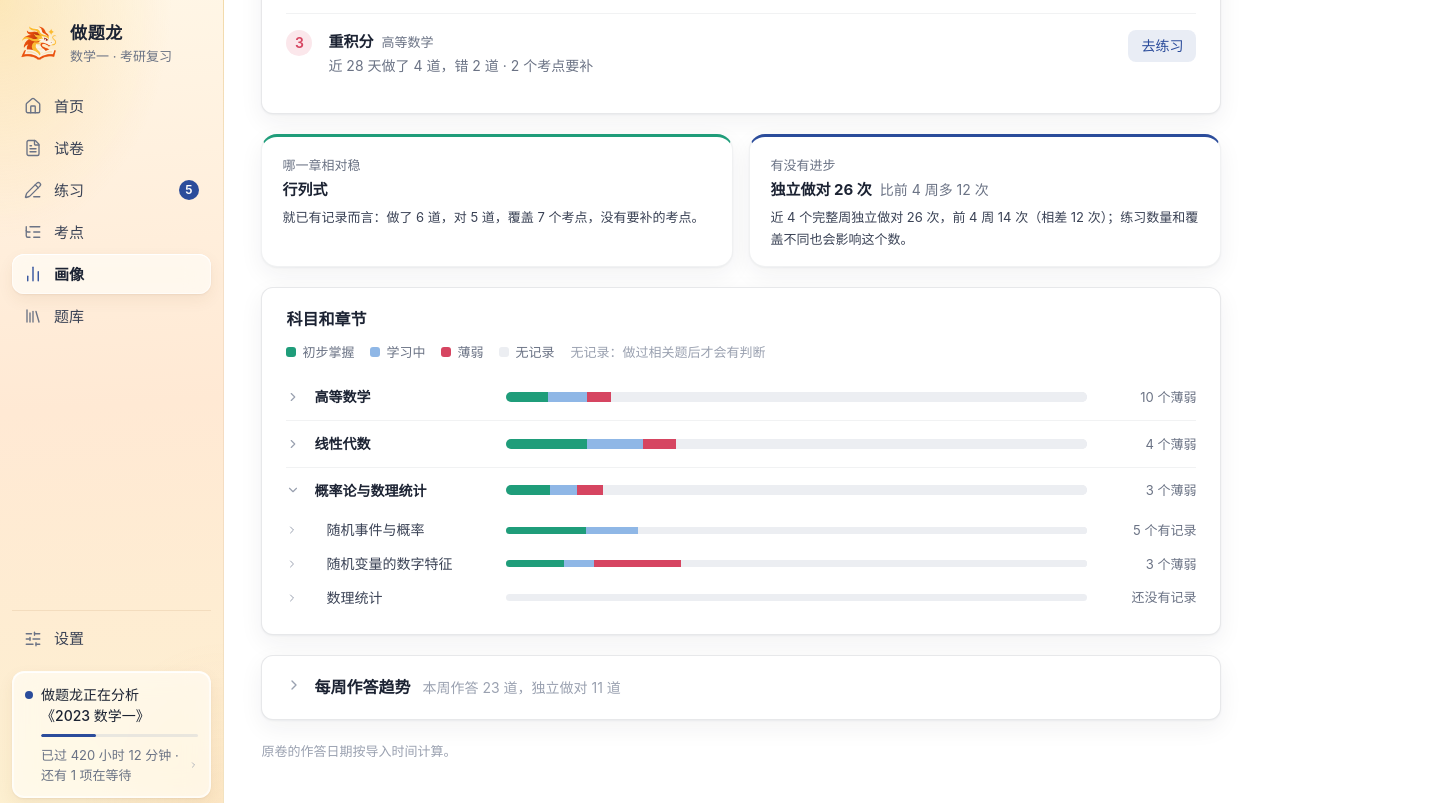
loads the heatmap only when a chapter opens and trends only when expanded
The width and height of the screenshot is (1440, 803).
(page scrolled)
# 默认展开排名第一的薄弱处所在科目（概率）；先展开线性代数
Click the button "线性代数 4 个薄弱": {"x": 741, "y": 444} [286,421,1196,467]
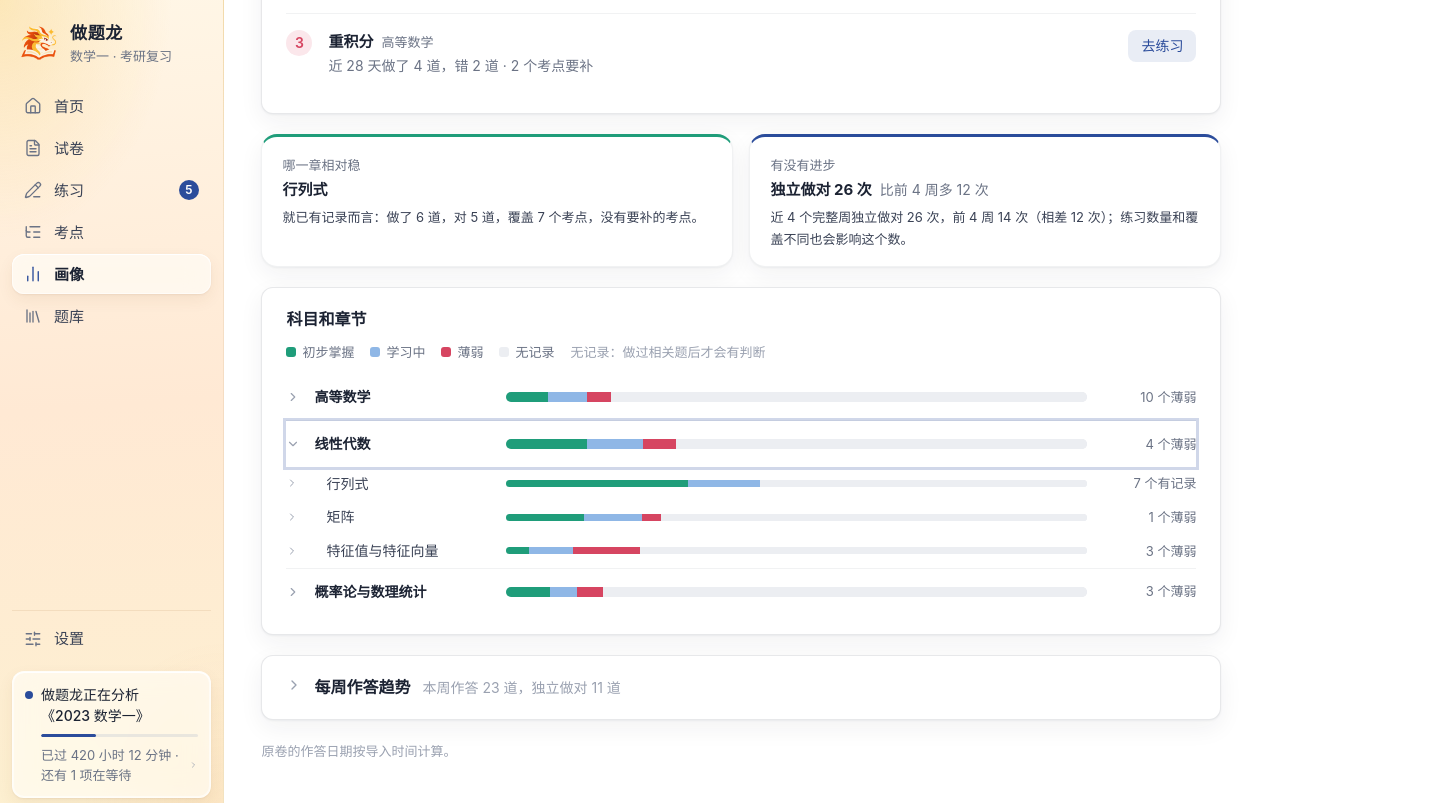
Click the button "特征值与特征向量 3 个薄弱": {"x": 741, "y": 551} [286,534,1196,568]
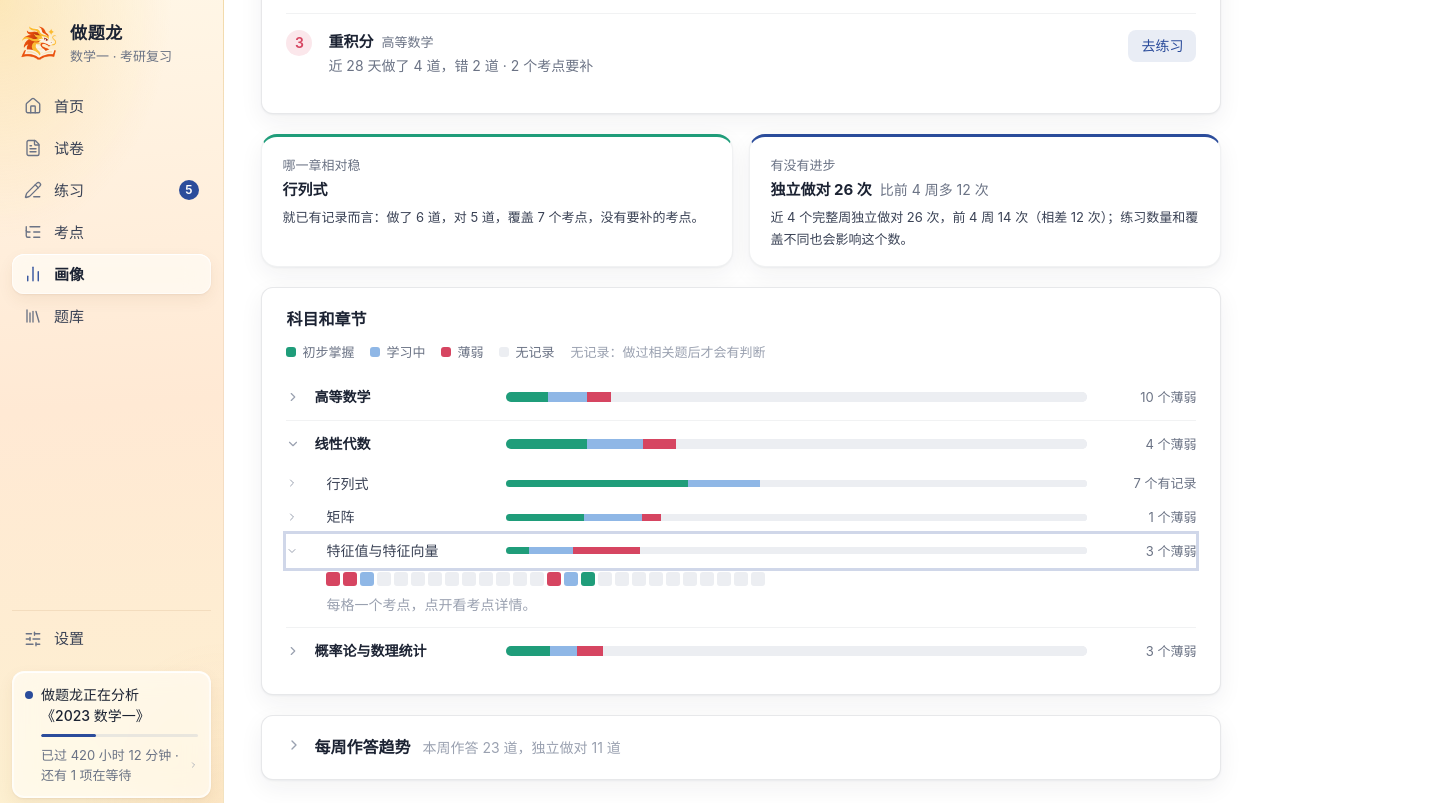
Click the button "每周作答趋势 本周作答 23 道，独立做对 11 道": {"x": 362, "y": 747} [286,736,1196,759]
(page scrolled)
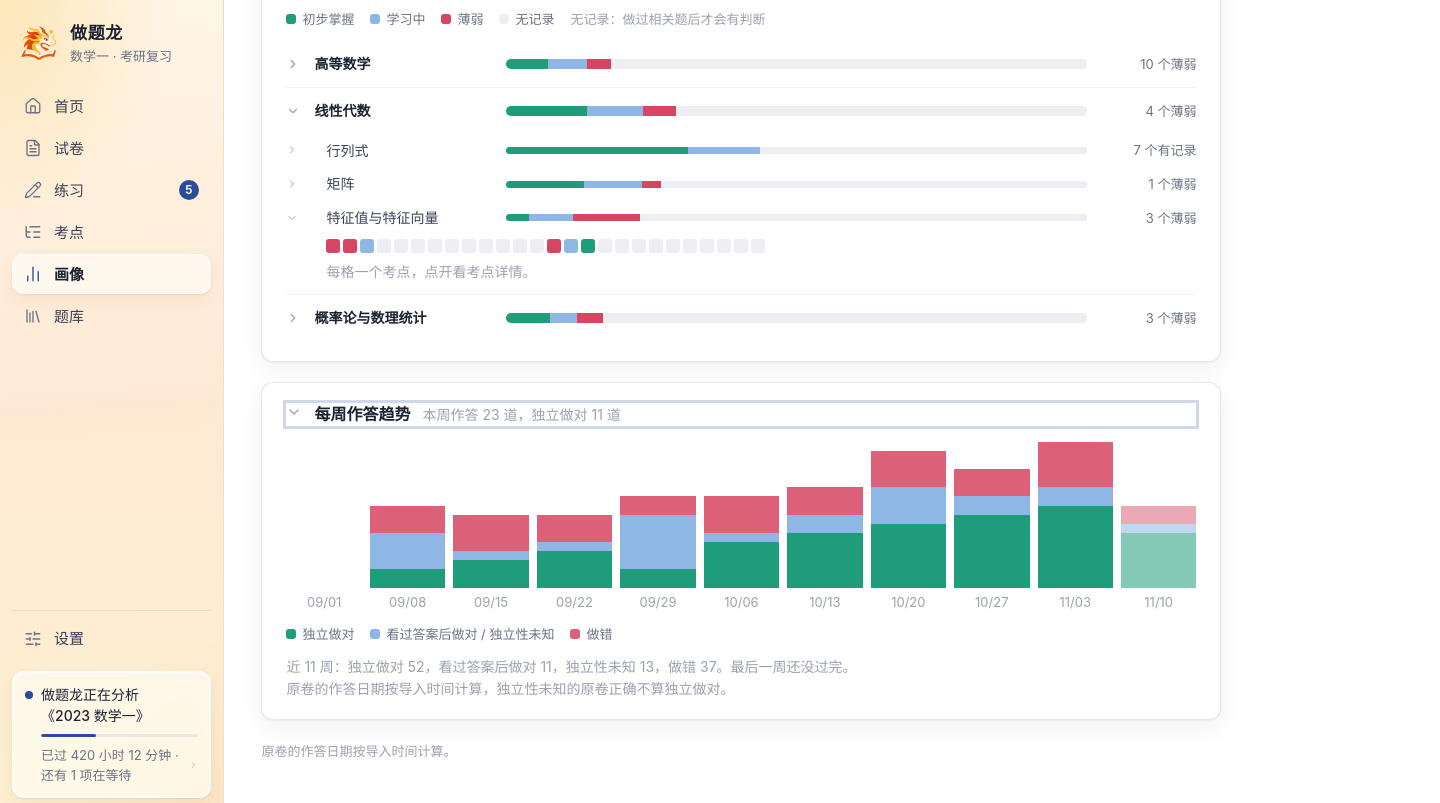
Now the picture named "每周作答" is shown, box [286,442,1196,612]
